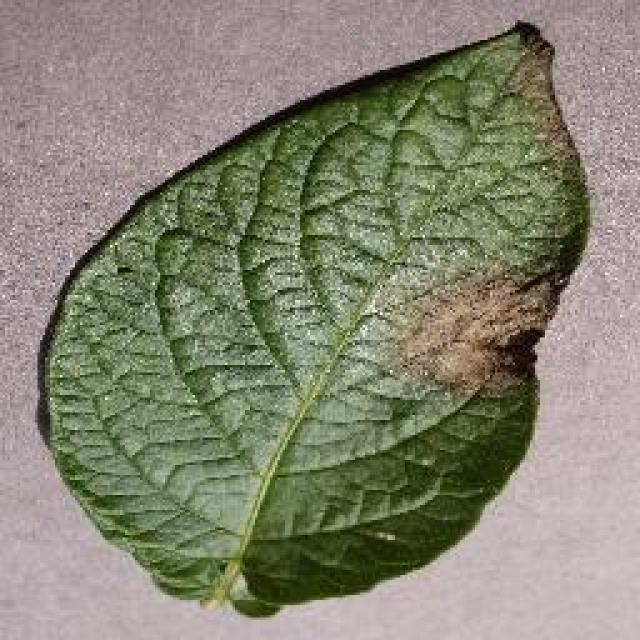late_blight: (33, 18, 595, 618)
